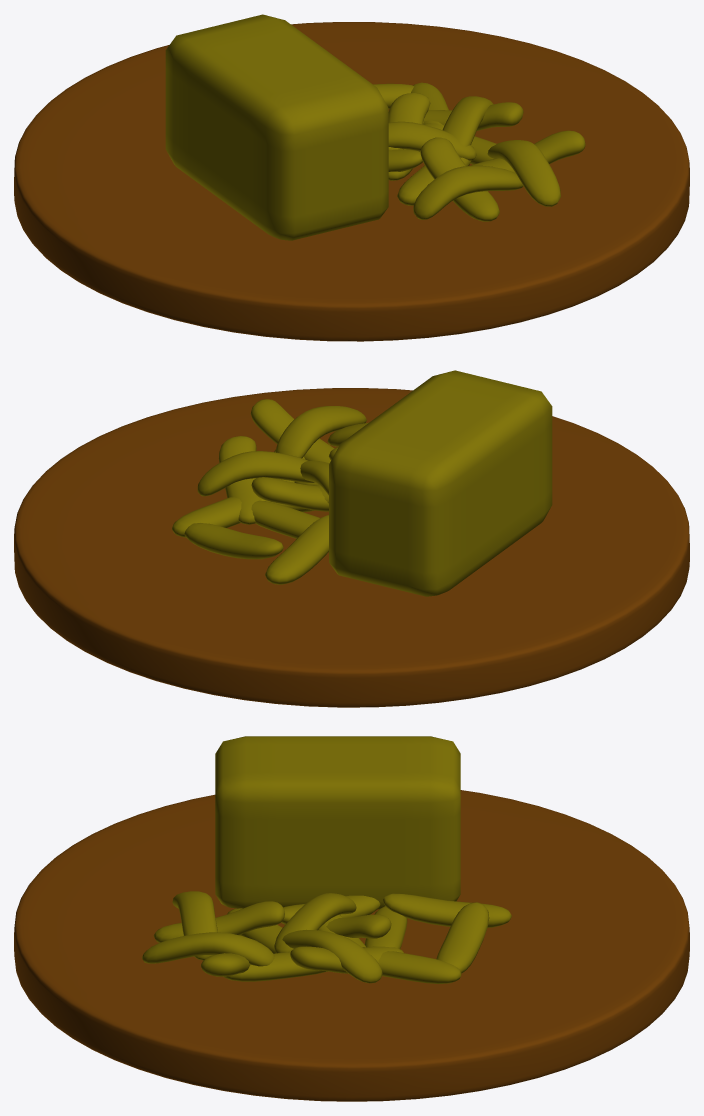
Rendered from Cheese.fbx.
3 renders of one model, top to bottom at view 1: azimuth 30°, elevation 25°; view 2: azimuth 150°, elevation 25°; view 3: azimuth 270°, elevation 25°, orthographic.
Parts seen in each view (by area): view 1: Chopping_block, Cheese_Block, pCube37, pCube45, pCube35, pCube33, pCube41, pCube43, pCube31, pCube39, pCube38, pCube36 (+2 smaller); view 2: Chopping_block, Cheese_Block, pCube41, pCube45, pCube40, pCube32, pCube31, pCube43, pCube34, pCube39, pCube42, pCube33; view 3: Chopping_block, Cheese_Block, pCube45, pCube41, pCube32, pCube40, pCube42, pCube35, pCube33, pCube37, pCube39, pCube46 (+5 smaller).
Part boxes in pixels (x1,y1,x2,y2): Chopping_block: (14, 22, 689, 341); Cheese_Block: (165, 14, 388, 240); pCube37: (413, 165, 523, 219); pCube45: (487, 140, 560, 206); pCube35: (420, 137, 499, 221); pCube33: (388, 121, 476, 160); pCube41: (442, 96, 493, 146); pCube43: (471, 130, 585, 172); pCube31: (388, 93, 430, 180); pCube39: (424, 102, 523, 130); pCube38: (397, 157, 470, 205); pCube36: (388, 149, 422, 171); Chopping_block: (14, 388, 689, 707); Cheese_Block: (329, 370, 552, 596); pCube41: (197, 451, 314, 496); pCube45: (276, 406, 366, 458); pCube40: (184, 523, 283, 559); pCube32: (265, 515, 328, 584); pCube31: (251, 477, 328, 511); pCube43: (250, 399, 334, 463); pCube34: (251, 500, 319, 538); pCube39: (218, 436, 261, 524); pCube42: (172, 497, 265, 537); pCube33: (300, 461, 329, 495); Chopping_block: (14, 790, 689, 1101); Cheese_Block: (215, 736, 460, 909); pCube45: (142, 932, 274, 966); pCube41: (282, 929, 382, 983); pCube32: (382, 893, 511, 927); pCube40: (436, 902, 489, 972); pCube42: (362, 947, 461, 983); pCube35: (153, 901, 284, 942); pCube33: (274, 893, 356, 953); pCube37: (172, 891, 217, 960); pCube39: (290, 946, 403, 973); pCube46: (223, 952, 327, 981).
Size of the model in its own units: 110 by 29.37 by 110.
